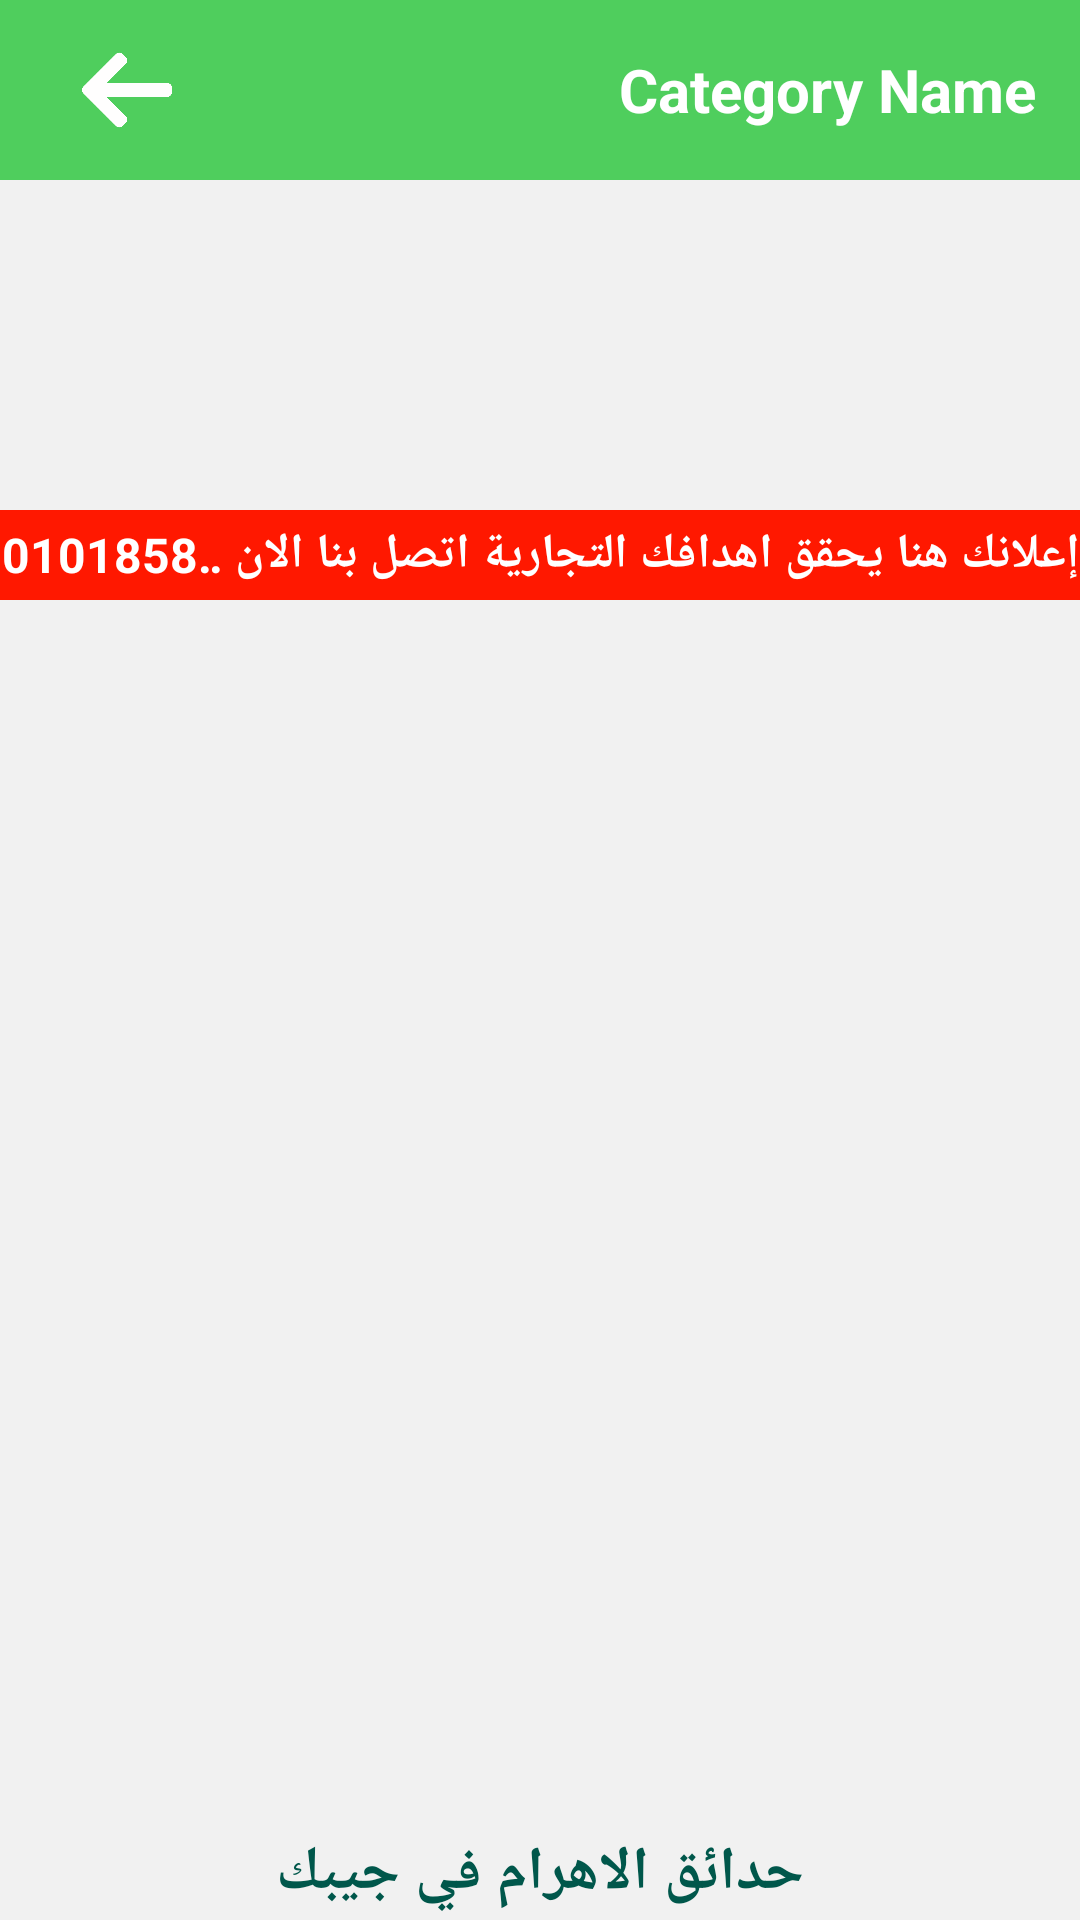

Icon click points for this 1080px x 1920px phone screenshot, format point (x, y):
backyyy: point (127, 90)
